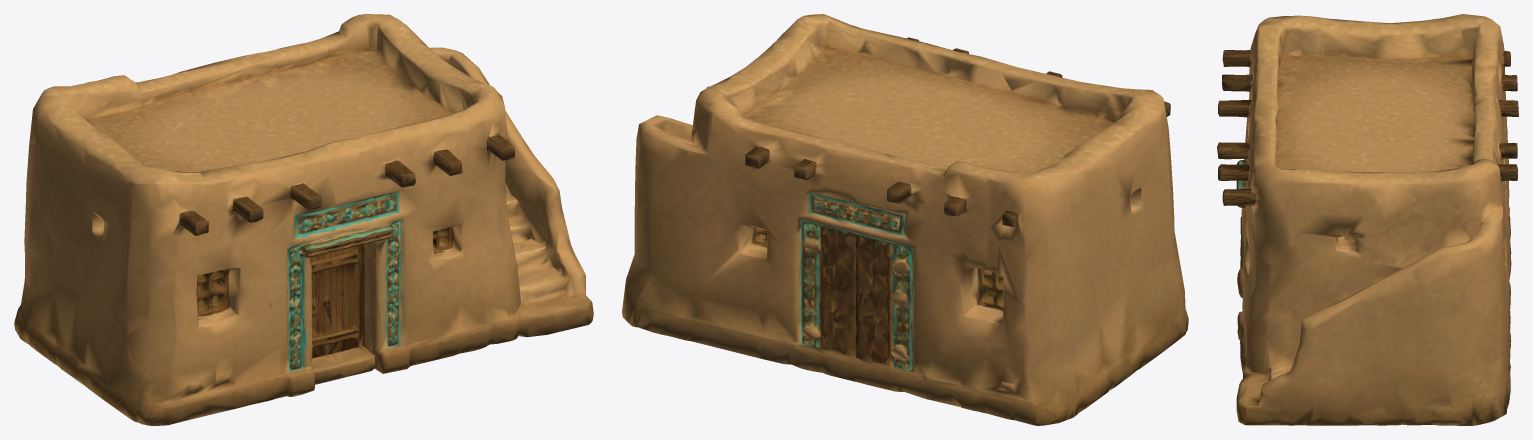
The model's file is MudbrickHouse.glb.
3 views of the same model, side by side, from view 1: azimuth 30°, elevation 25°; view 2: azimuth 150°, elevation 25°; view 3: azimuth 270°, elevation 25° (orthographic). The views are drawn at different scales.
Bounding box in the file's own units: 1.9 × 0.9406 × 1.17.
1 material, 1 textured.
